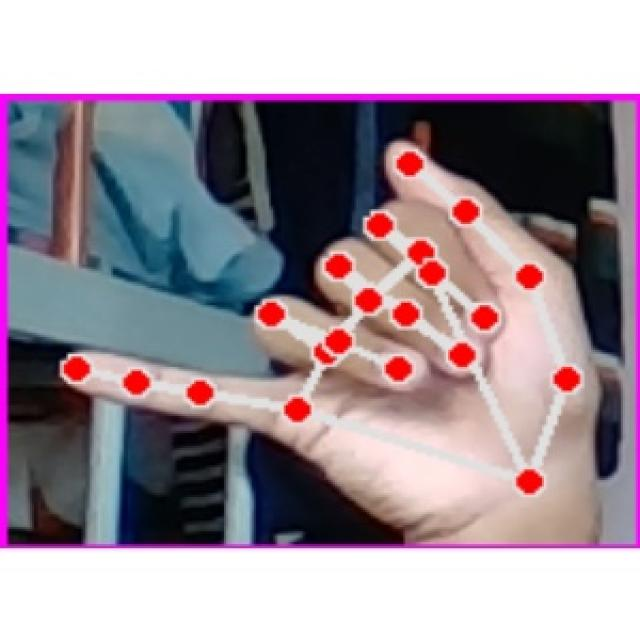J: (42, 121, 618, 523)
